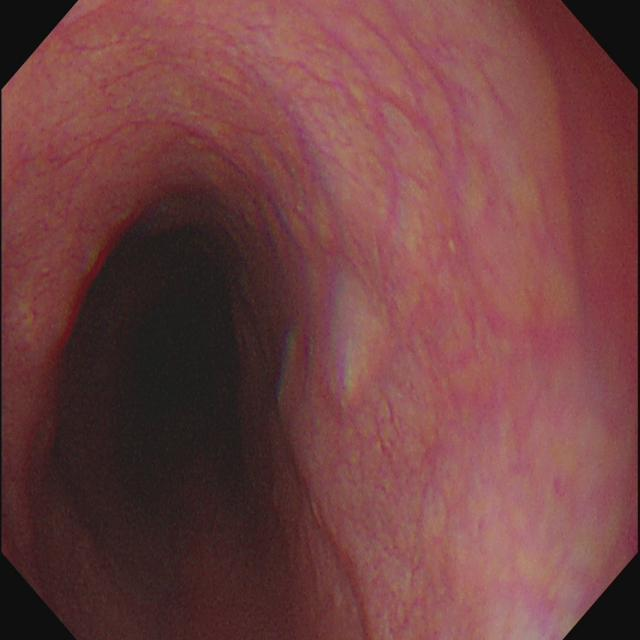E: (29, 156, 297, 578)
